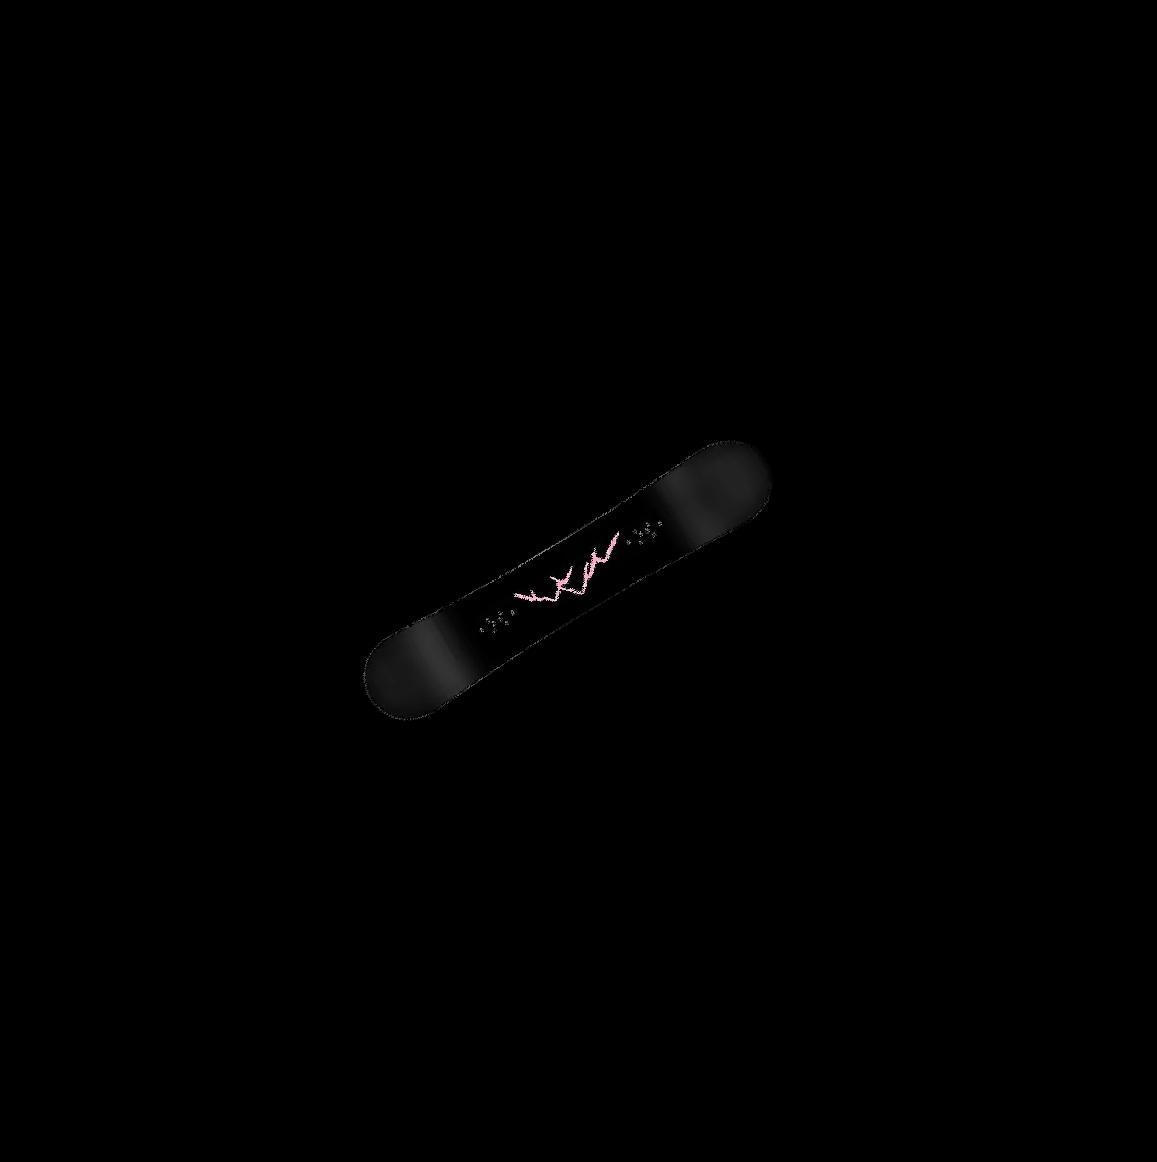Snowboard: (360, 436, 773, 723)
